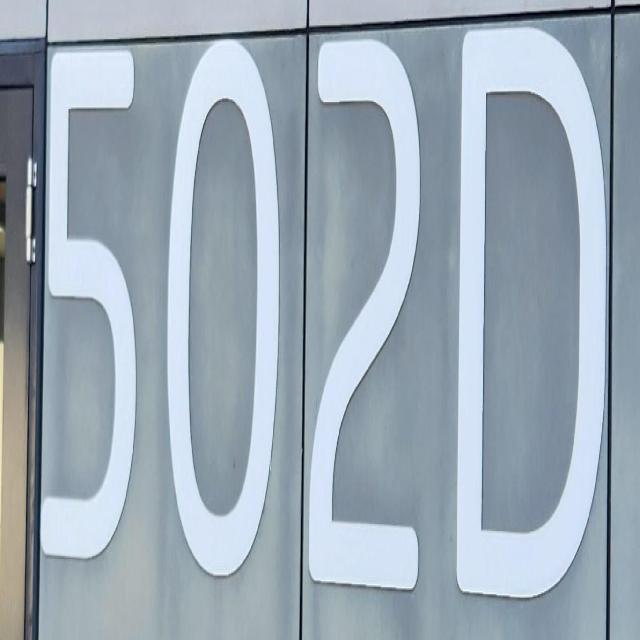character: (454, 22, 610, 611), (308, 34, 423, 599), (165, 30, 282, 583), (39, 32, 140, 571)
